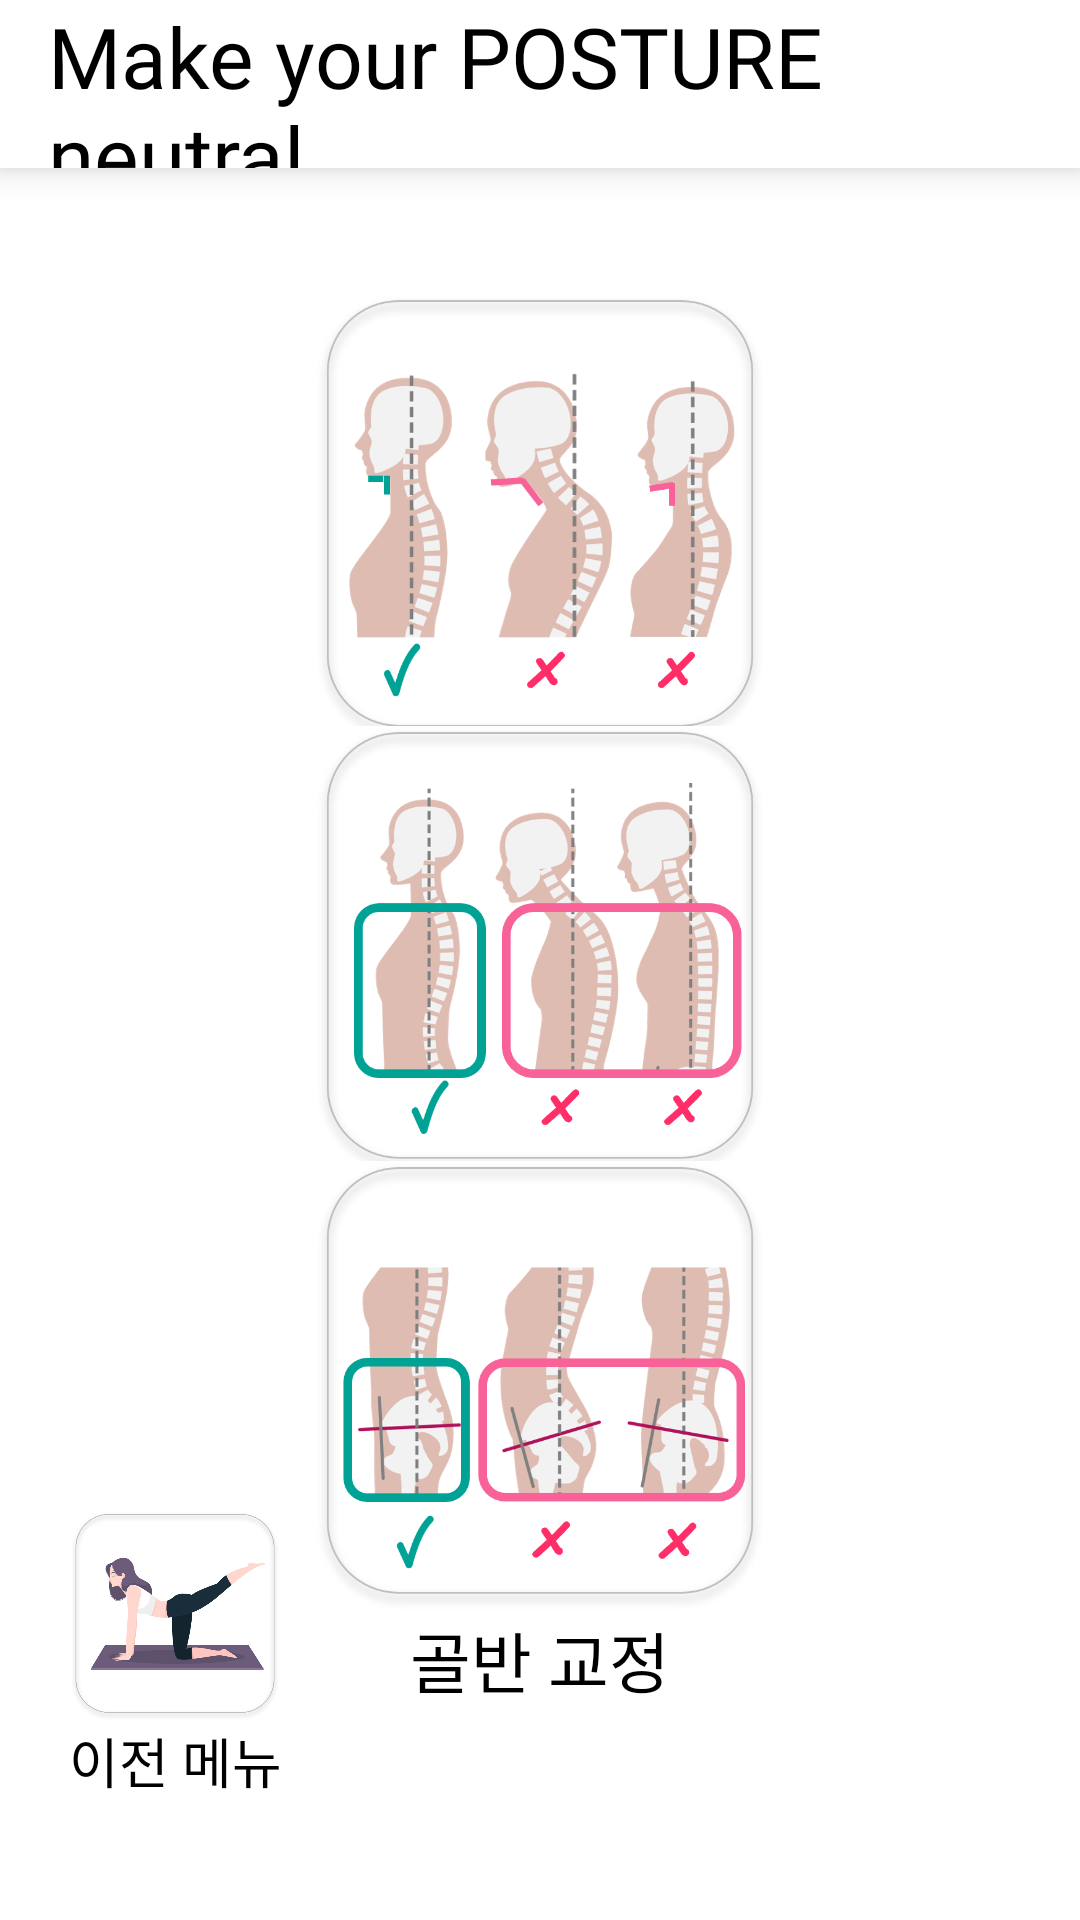

Named icons in this screenshot (1080px×1920px) and their bounding boxes, box=[x1, y1, x2, y2]:
exercise: box=[75, 1514, 275, 1713]
